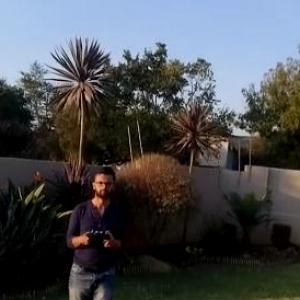follow: (60, 161, 129, 299)
